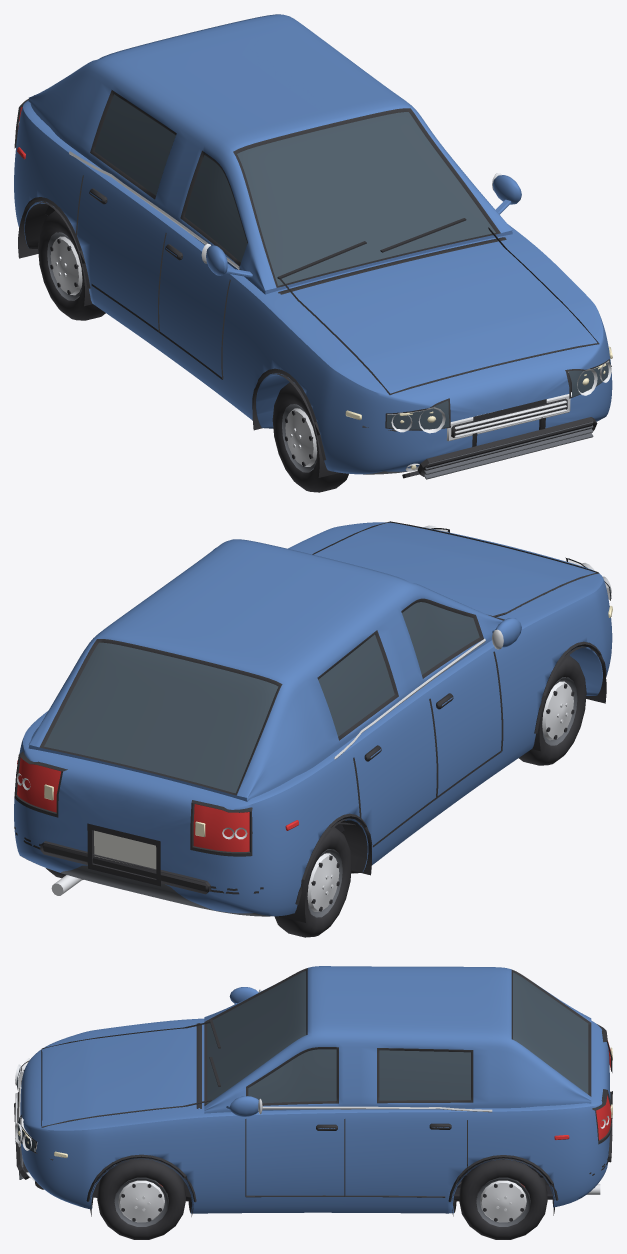
File: CarV3_Hatch.fbx
3 renders of one model, top to bottom at view 1: azimuth 30°, elevation 25°; view 2: azimuth 150°, elevation 25°; view 3: azimuth 270°, elevation 25°, orthographic. The views are drawn at different scales.
Parts seen in each view (by area): view 1: CarV3_Hatch; view 2: CarV3_Hatch; view 3: CarV3_Hatch.
Part boxes in pixels (<box>): CarV3_Hatch: <box>14,14,612,492</box>; CarV3_Hatch: <box>14,521,612,937</box>; CarV3_Hatch: <box>14,966,612,1239</box>.
Size of the model in its own units: 1.84 by 1.47 by 4.06.
